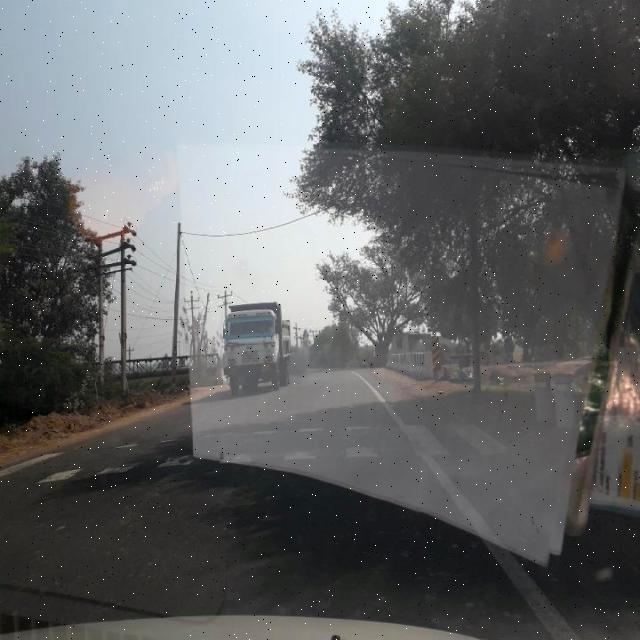D43: (4, 408, 500, 493)
